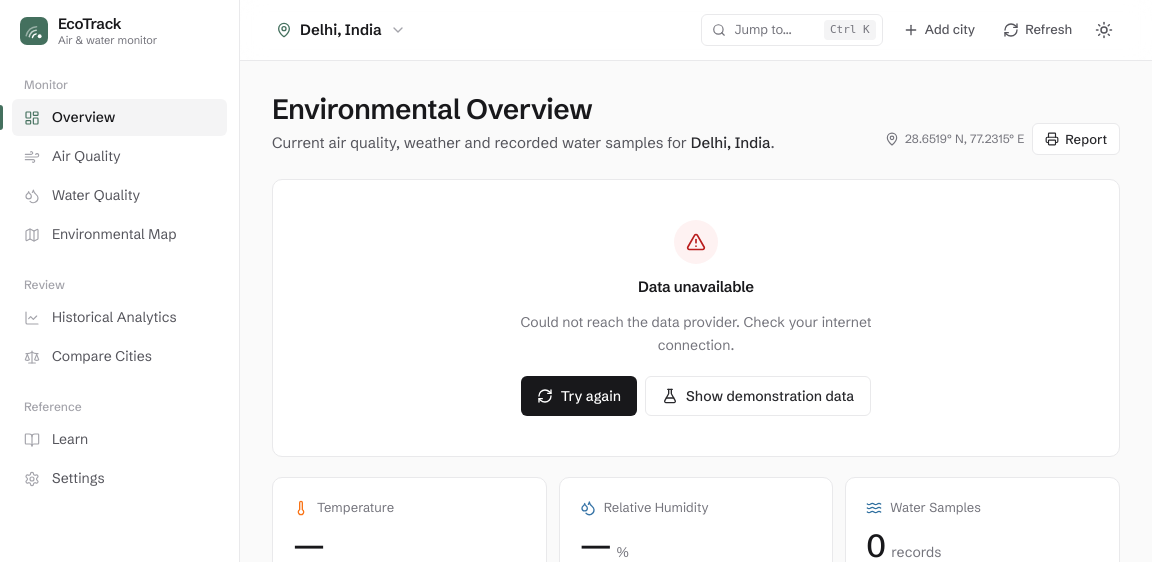
Test: API failure handling › labels demonstration data prominently once the user opts into it
This screenshot has width=1152, height=562.
Step 1. Click the button "Show demonstration data" → (758, 396), box [645,376,871,416]
(page scrolled)
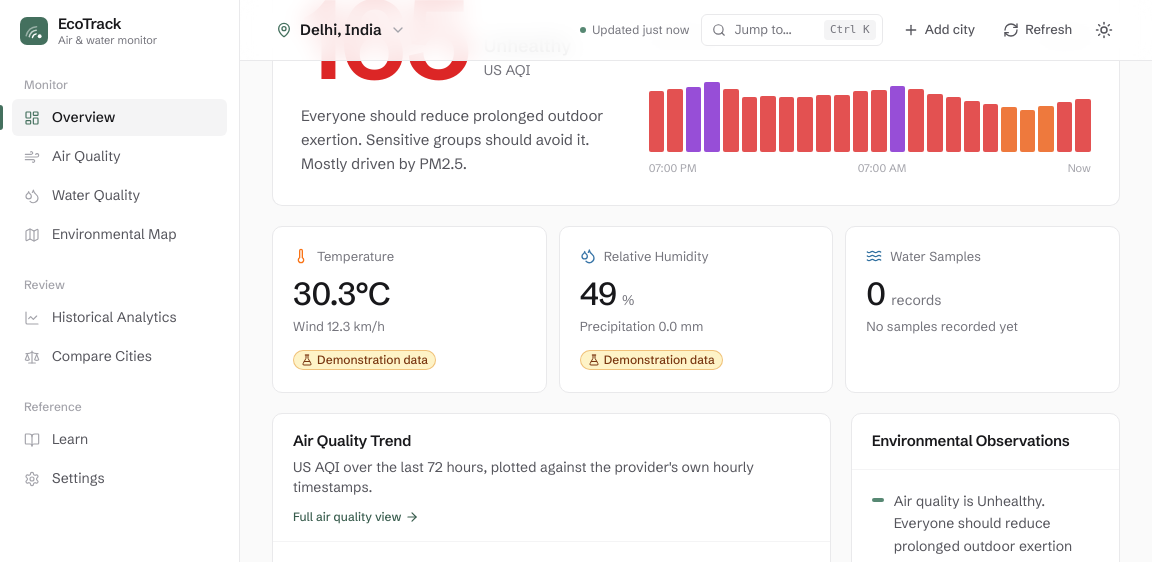
Now the text "Demonstration data" below "Wind 12.3 km/h" is shown, box [317,352,428,367]
